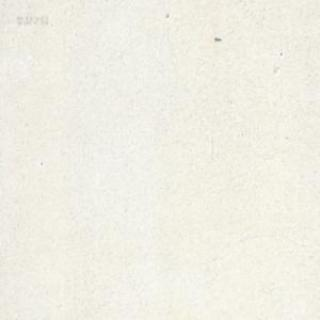Nailtrack_idkeyframe: (214, 35, 221, 41)
